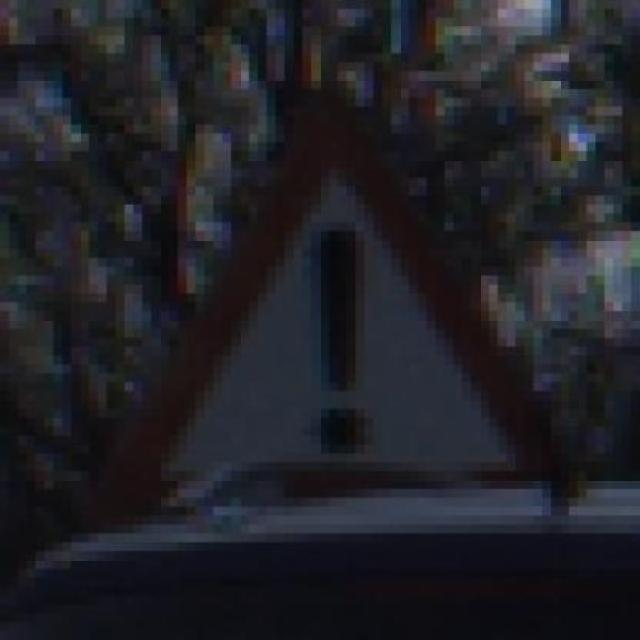Attention Please-: (88, 89, 578, 542)
